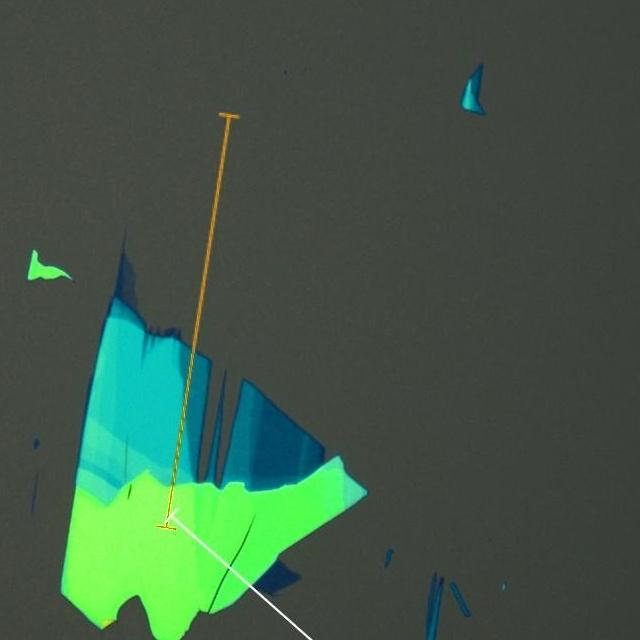monolayer-eWW4: (121, 254, 138, 308)
